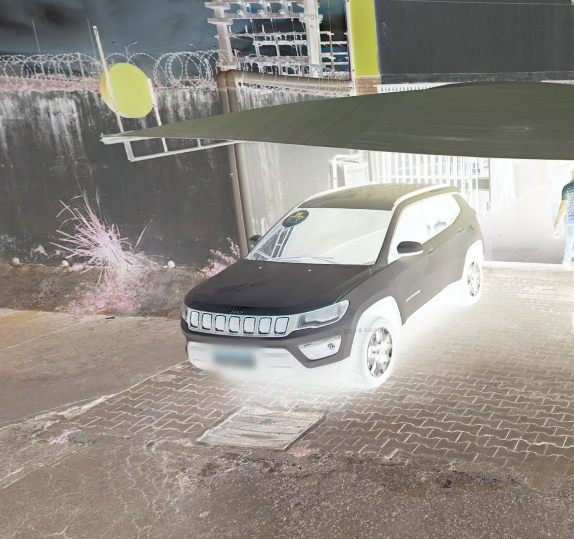car: (177, 179, 496, 396)
